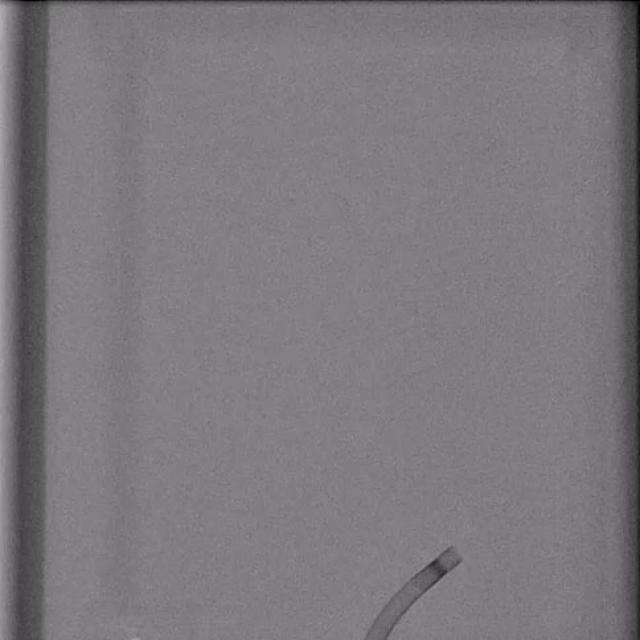entry: (365, 636, 387, 640)
marker: (429, 558, 449, 578)
tip: (451, 546, 464, 561)
